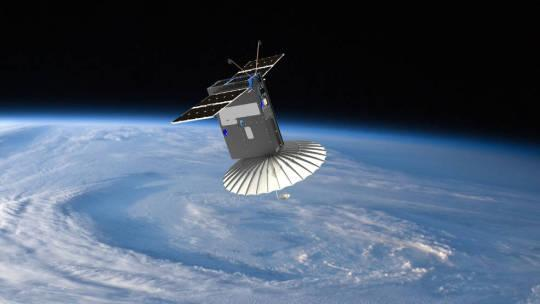antenna: (222, 139, 328, 201), (225, 54, 253, 79), (252, 38, 264, 76), (262, 96, 269, 106)
body: (205, 77, 286, 161)
solar: (169, 86, 252, 125), (220, 50, 289, 87)
